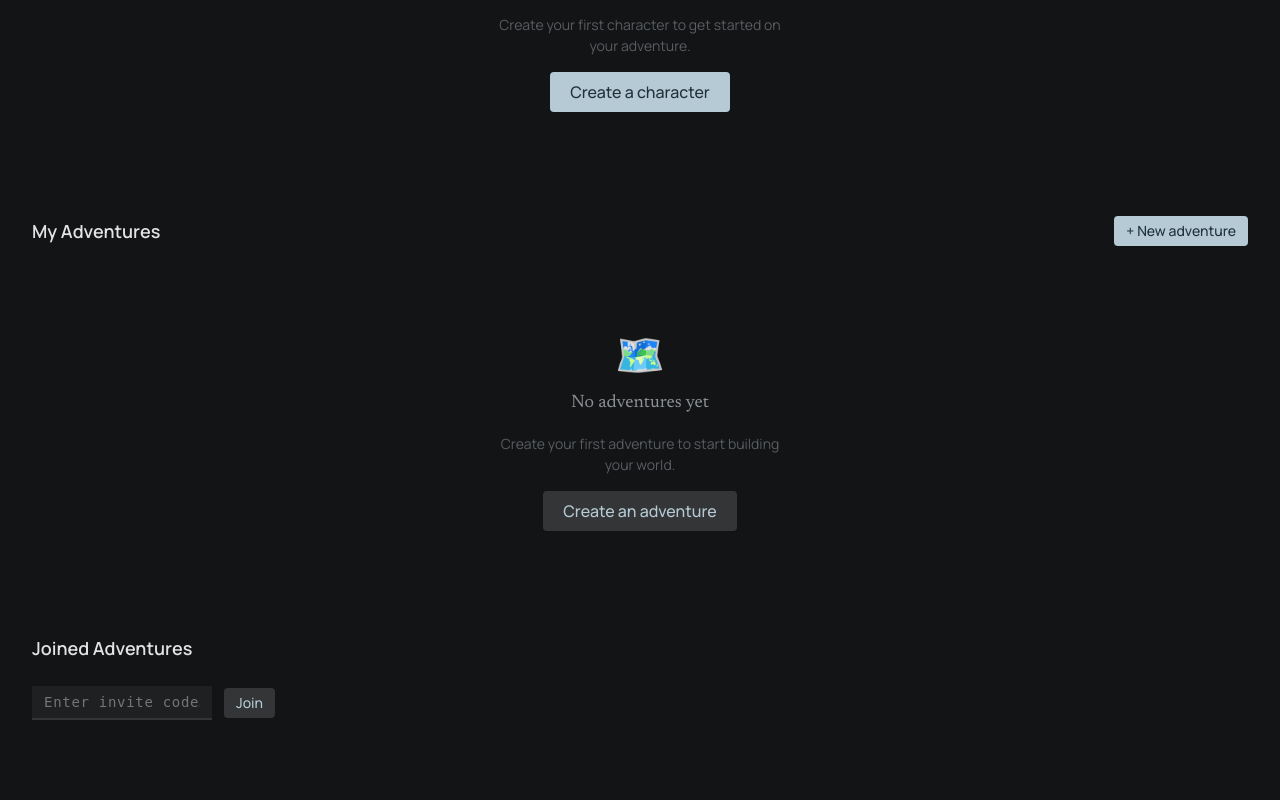
Test case: DashboardPage › shows an error when joining with an invalid code
(page scrolled)
Type "BADCODE" into the field with placeholder "Enter invite code…" at (122, 703), box [32,686,212,720]
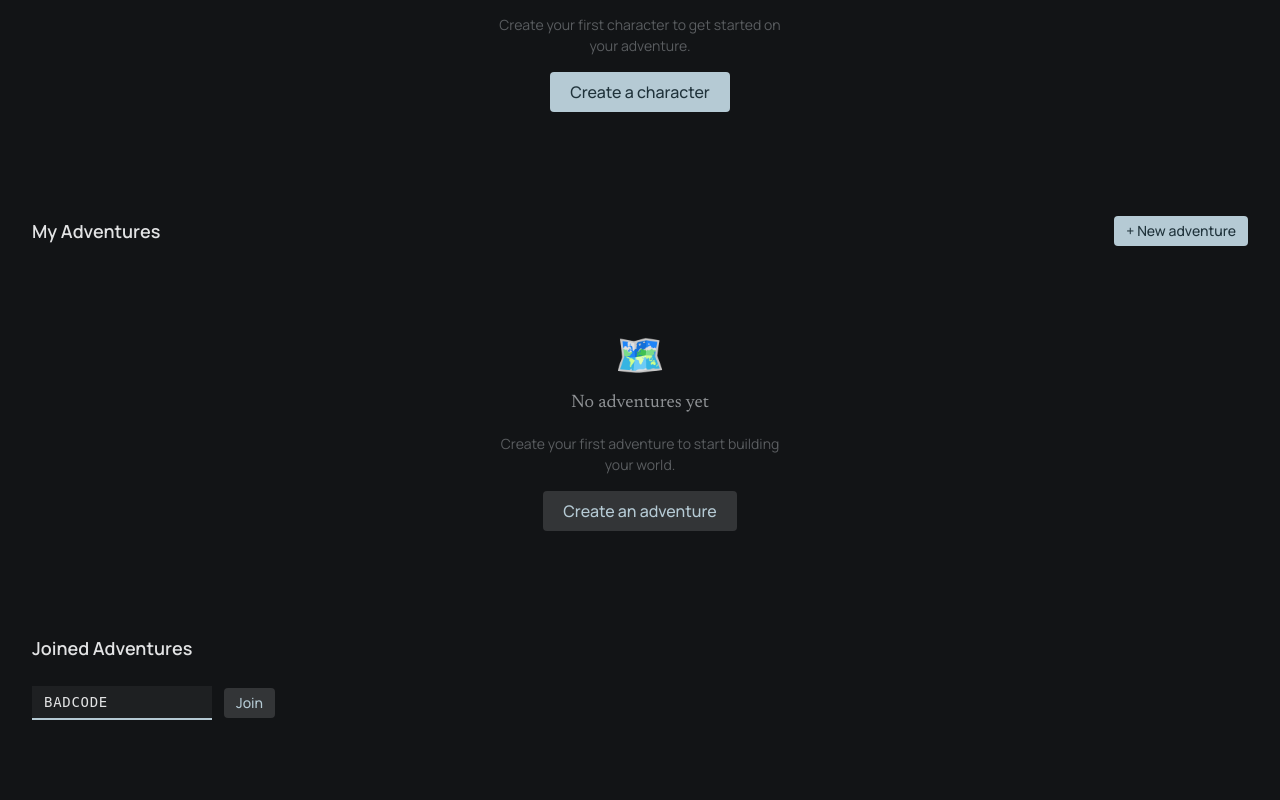
Click the button "Join" at (250, 703), box [224,688,275,718]
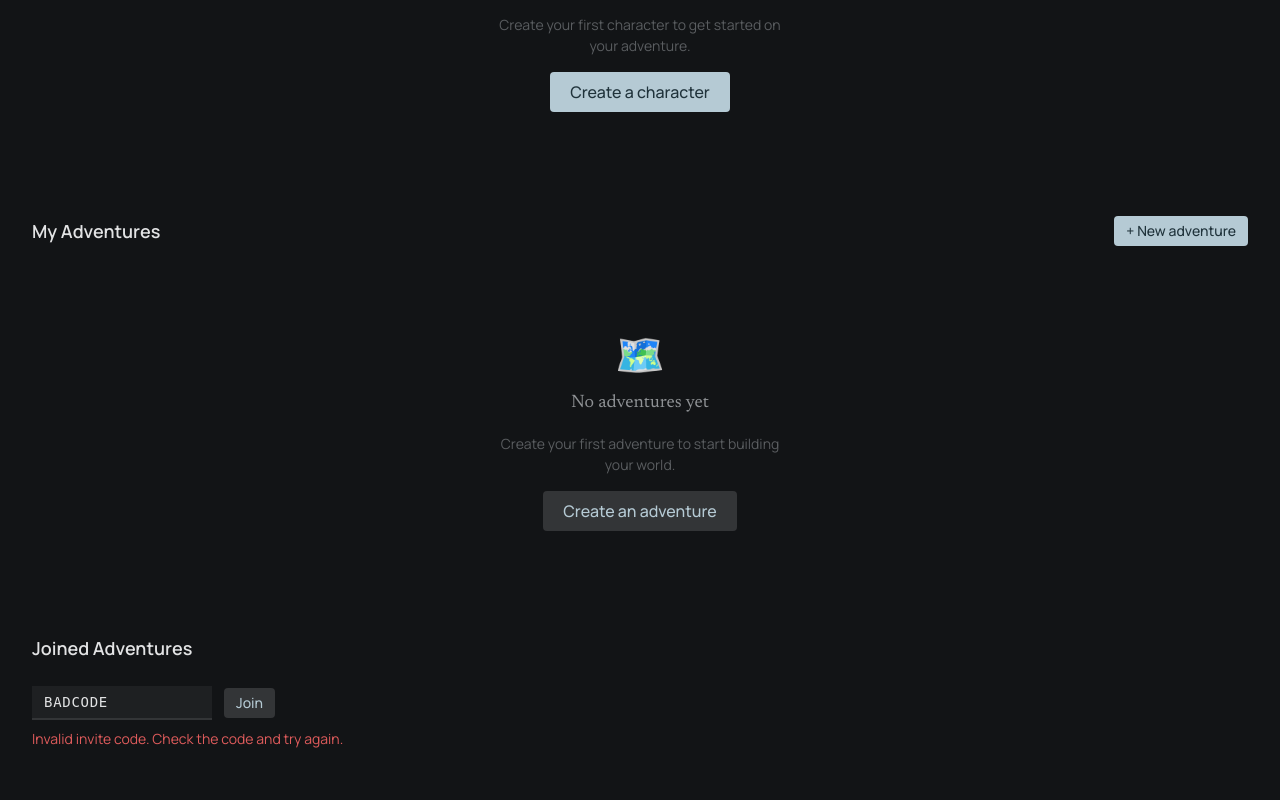
Result: the text "Invalid invite code. Check the code and try again." is shown at [32,729,343,748]
